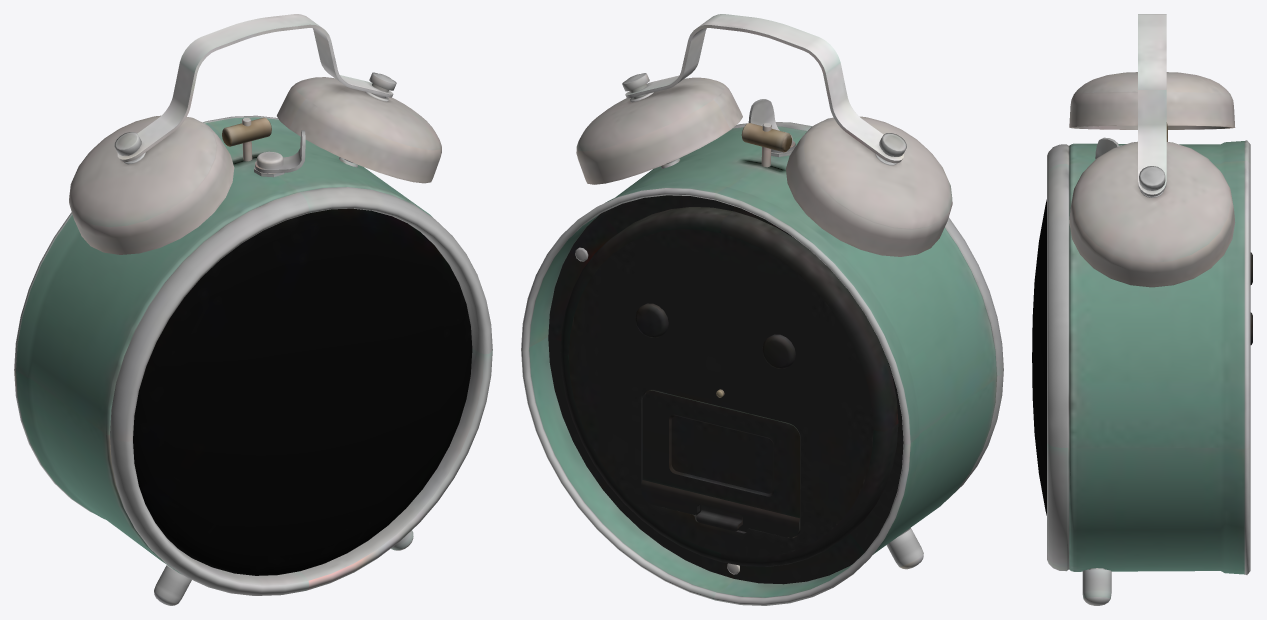
Rendered from alarm_clock_01.glb.
3 renders of one model, left to right at view 1: azimuth 30°, elevation 25°; view 2: azimuth 150°, elevation 25°; view 3: azimuth 270°, elevation 25°, orthographic. The views are drawn at different scales.
Visible parts, largest first — view 1: alarm_clock_01; view 2: alarm_clock_01; view 3: alarm_clock_01.
Part boxes in pixels (bbox=[...]): alarm_clock_01: bbox=[14, 14, 492, 605]; alarm_clock_01: bbox=[521, 14, 1003, 605]; alarm_clock_01: bbox=[1032, 14, 1252, 605].
Bounding box in the file's own units: 0.1317 × 0.1742 × 0.0667.
2 materials, 2 textured.
